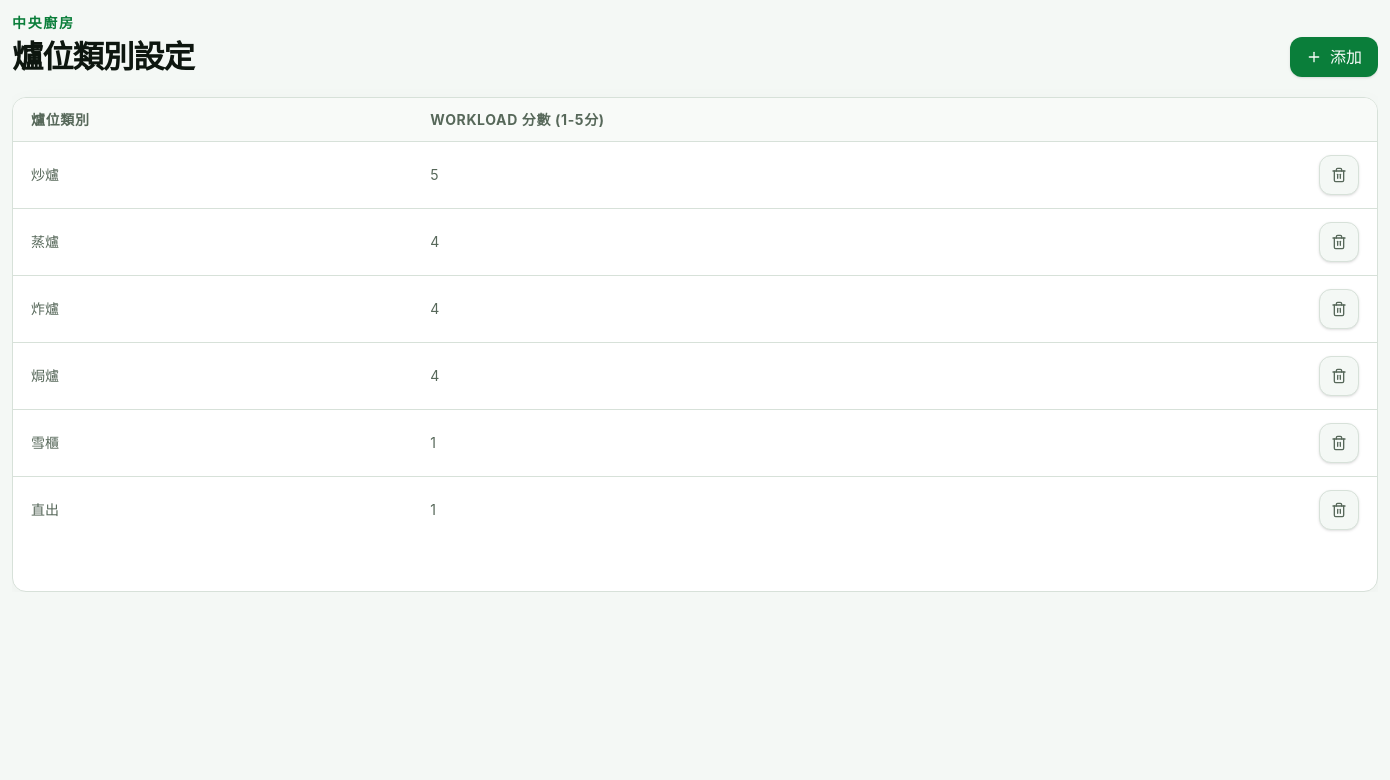
Test: Kitchen settings page › deletes a stove category after confirmation
This screenshot has width=1390, height=780.
Check: the text "炒爐" is shown, box left=13, top=141, right=412, bottom=208
Step 1. Click the button named "刪除" in the row of "炒爐" → (1339, 175), box left=1319, top=155, right=1359, bottom=195
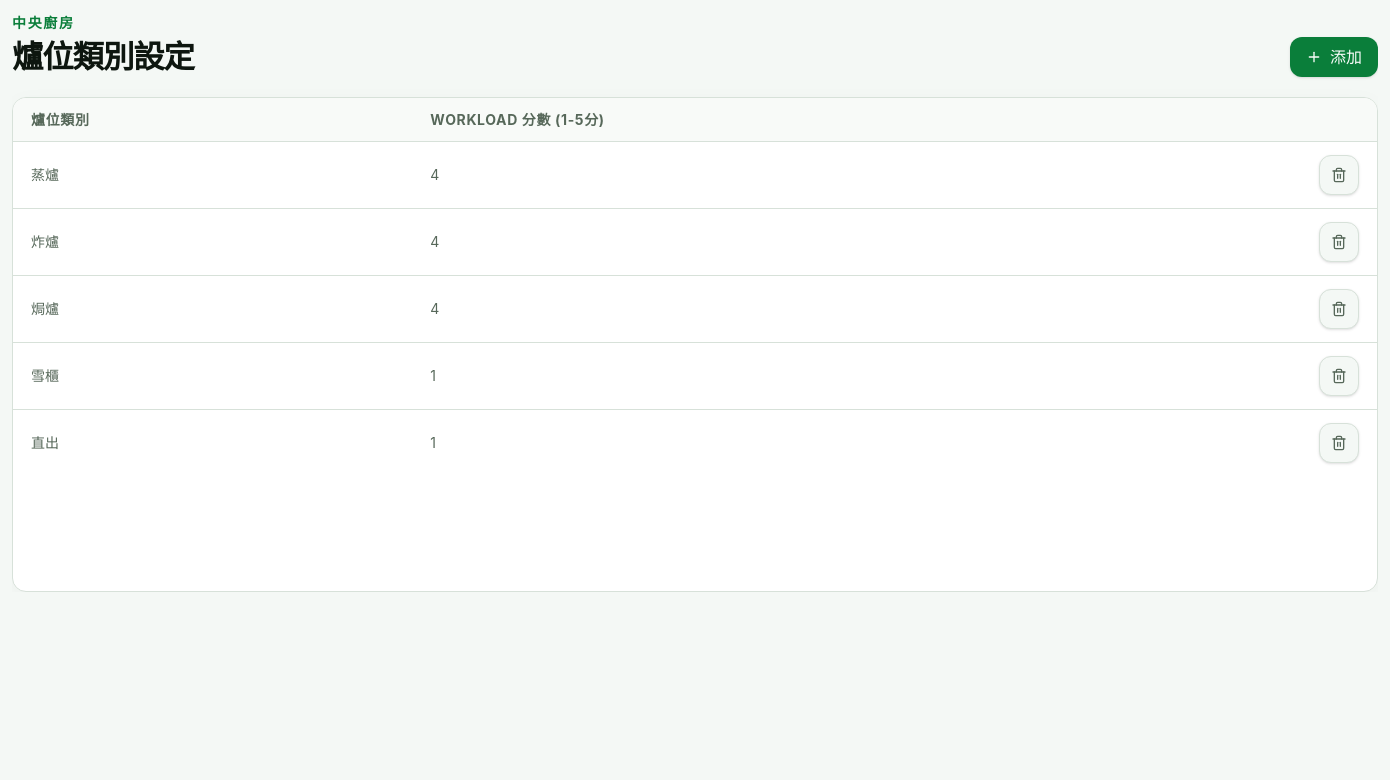
Check: the text "炒爐" is gone
